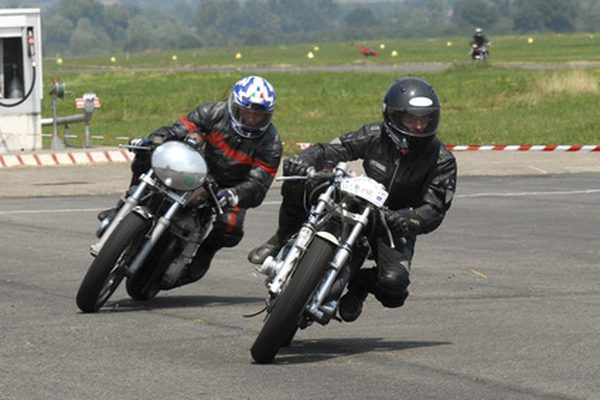helmet: (382, 78, 444, 147), (228, 79, 275, 140)
